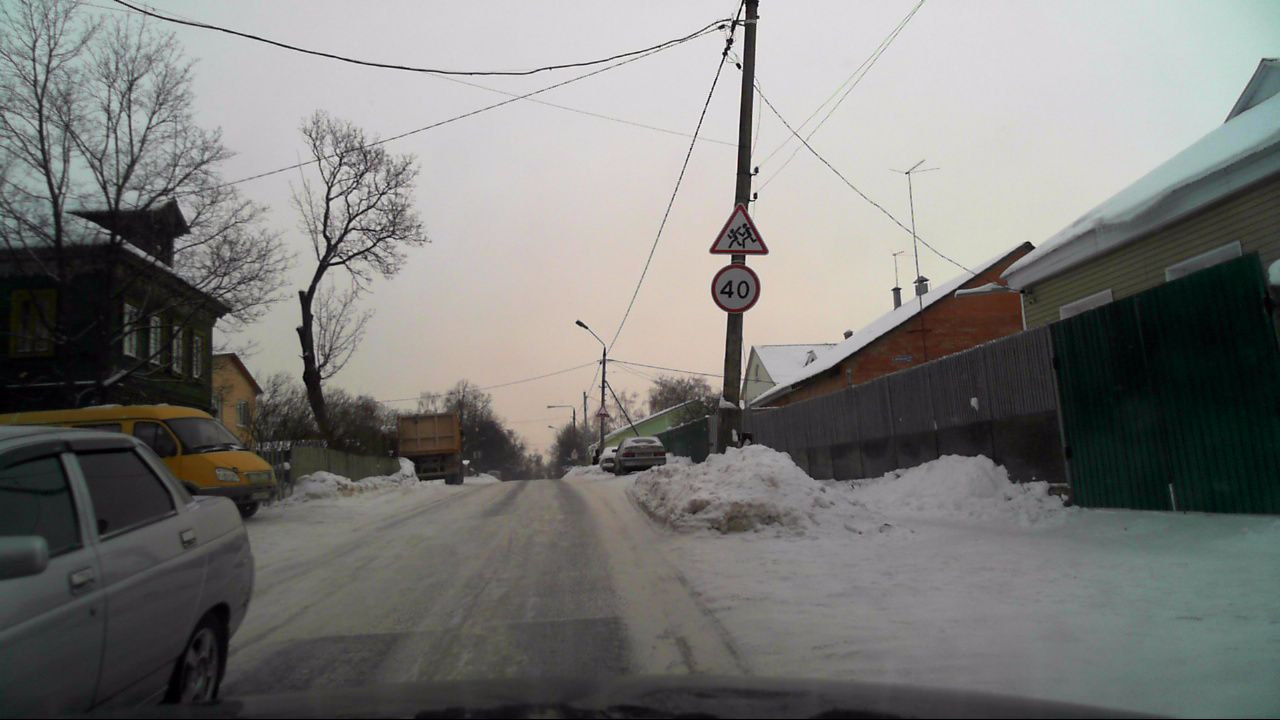speed_warning_40: (711, 263, 760, 311)
